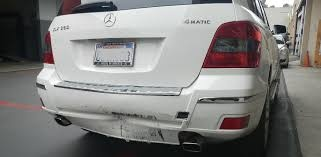Dent: (90, 107, 192, 140)
